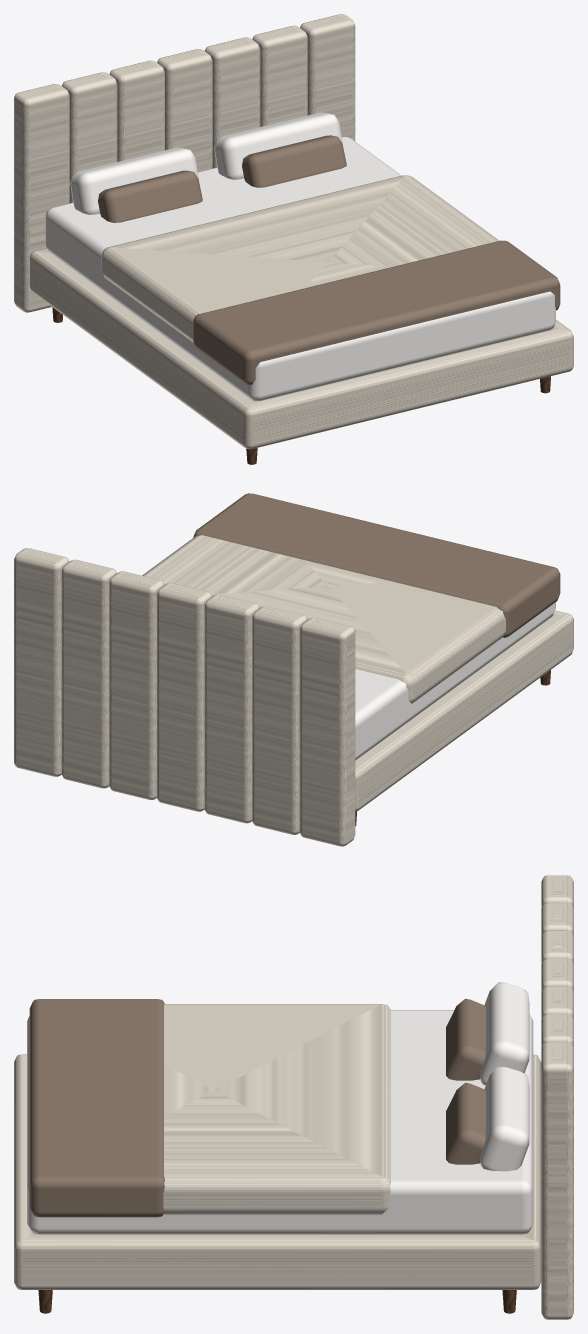
The model's file is obj_birim_double_bed_160.glb.
3 renders of one model, top to bottom at view 1: azimuth 30°, elevation 25°; view 2: azimuth 150°, elevation 25°; view 3: azimuth 270°, elevation 25°, orthographic. The views are drawn at different scales.
Visible parts, largest first — view 1: obj_birim_double_bed_160; view 2: obj_birim_double_bed_160; view 3: obj_birim_double_bed_160.
Boxes of the visible parts, box(x1,y1,x2,y2) form: obj_birim_double_bed_160: box(14, 14, 573, 464); obj_birim_double_bed_160: box(14, 493, 573, 846); obj_birim_double_bed_160: box(14, 875, 573, 1319).
Bounding box in the file's own units: 1.76 × 1.08 × 2.14.
4 materials, 2 textured.
